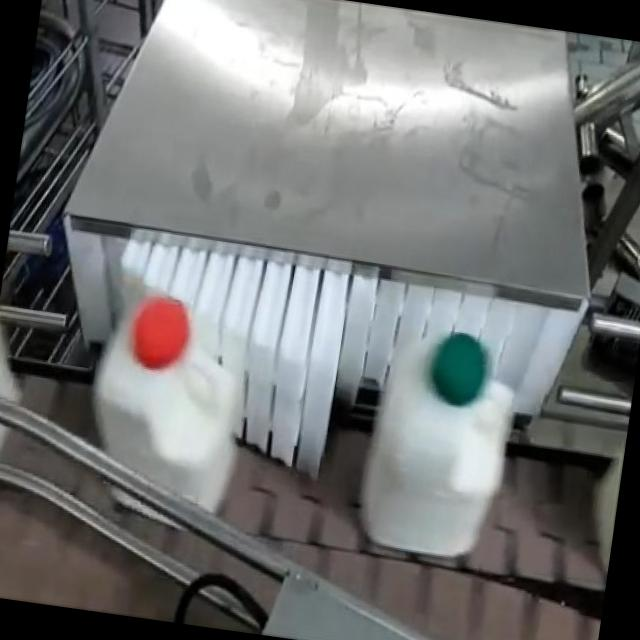milk: (70, 282, 270, 534), (357, 310, 531, 578)
